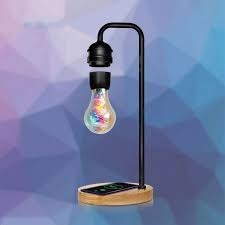bulb: (65, 75, 125, 147)
